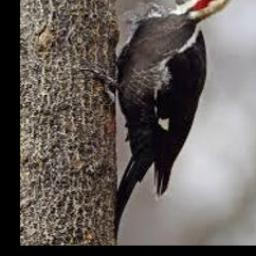Woodpecker: (80, 0, 248, 243)
